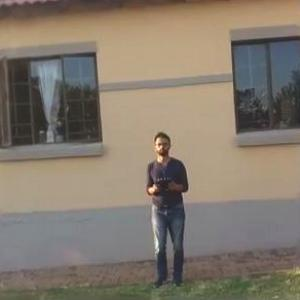follow: (145, 126, 196, 294)
